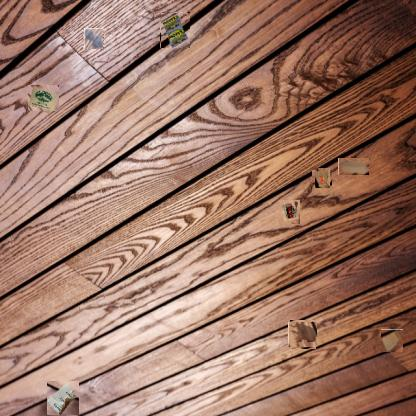dirty: (47, 381, 79, 415), (160, 12, 190, 48), (29, 84, 58, 112), (338, 157, 369, 175), (381, 329, 403, 352), (278, 201, 301, 223), (313, 169, 331, 187)
liquid: (289, 321, 317, 348), (83, 28, 104, 49)
